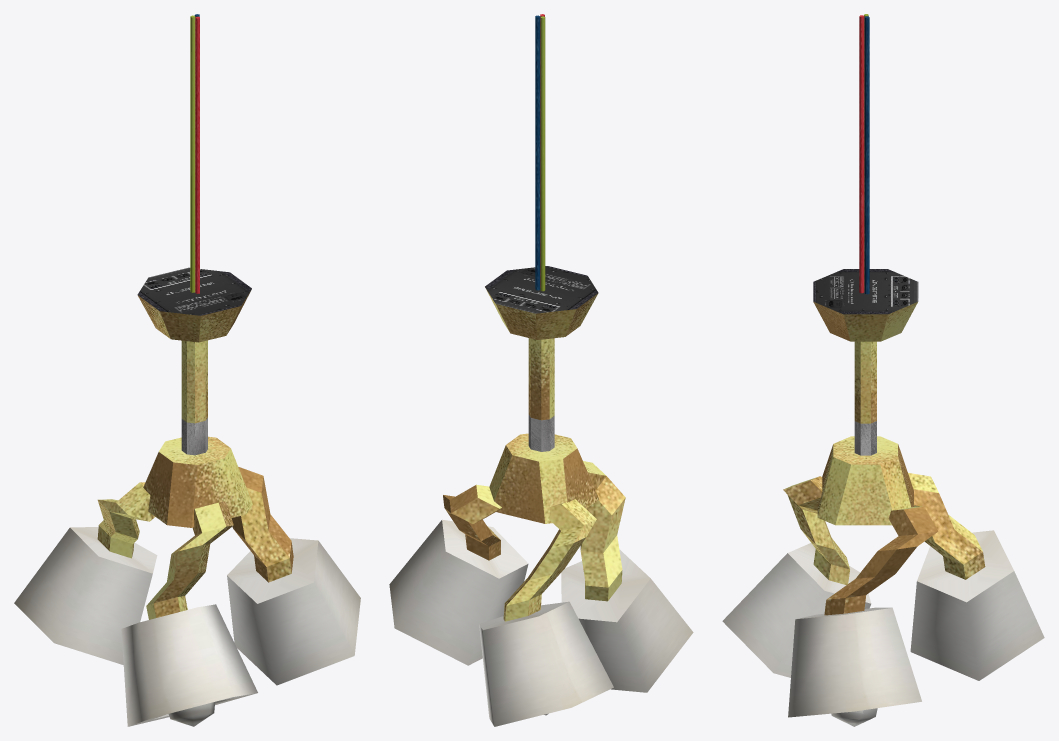
The model's file is celling lamp.FBX.
3 views of the same model, side by side, from view 1: azimuth 30°, elevation 25°; view 2: azimuth 150°, elevation 25°; view 3: azimuth 270°, elevation 25° (orthographic).
Visible parts, largest first — view 1: Object003, Box001, Cylinder001, Object004, Cylinder003, Cylinder002, Object002, Sphere001; view 2: Object003, Box001, Cylinder001, Object004, Cylinder004, Cylinder003, Object002; view 3: Object003, Box001, Cylinder001, Object004, Cylinder002, Cylinder004, Object002.
Part boxes in pixels (<box>): Object003: <box>14,527,360,726</box>; Box001: <box>138,291,252,527</box>; Cylinder001: <box>97,467,293,619</box>; Object004: <box>137,267,251,315</box>; Cylinder003: <box>190,15,195,292</box>; Cylinder002: <box>195,16,199,293</box>; Object002: <box>181,417,207,455</box>; Sphere001: <box>168,702,214,726</box>; Object003: <box>389,519,693,726</box>; Box001: <box>486,289,598,523</box>; Cylinder001: <box>443,461,625,621</box>; Object004: <box>485,266,598,313</box>; Cylinder004: <box>535,15,540,290</box>; Cylinder003: <box>540,16,545,291</box>; Object002: <box>528,415,554,451</box>; Object003: <box>722,530,1044,717</box>; Box001: <box>813,302,917,525</box>; Cylinder001: <box>783,473,985,615</box>; Object004: <box>813,269,918,314</box>; Cylinder002: <box>859,15,864,293</box>; Cylinder004: <box>864,16,869,294</box>; Object002: <box>854,421,876,455</box>.
Bounding box in the file's own units: 19.13 × 46.66 × 19.96.
Materials: 8 (8 with a texture image).
